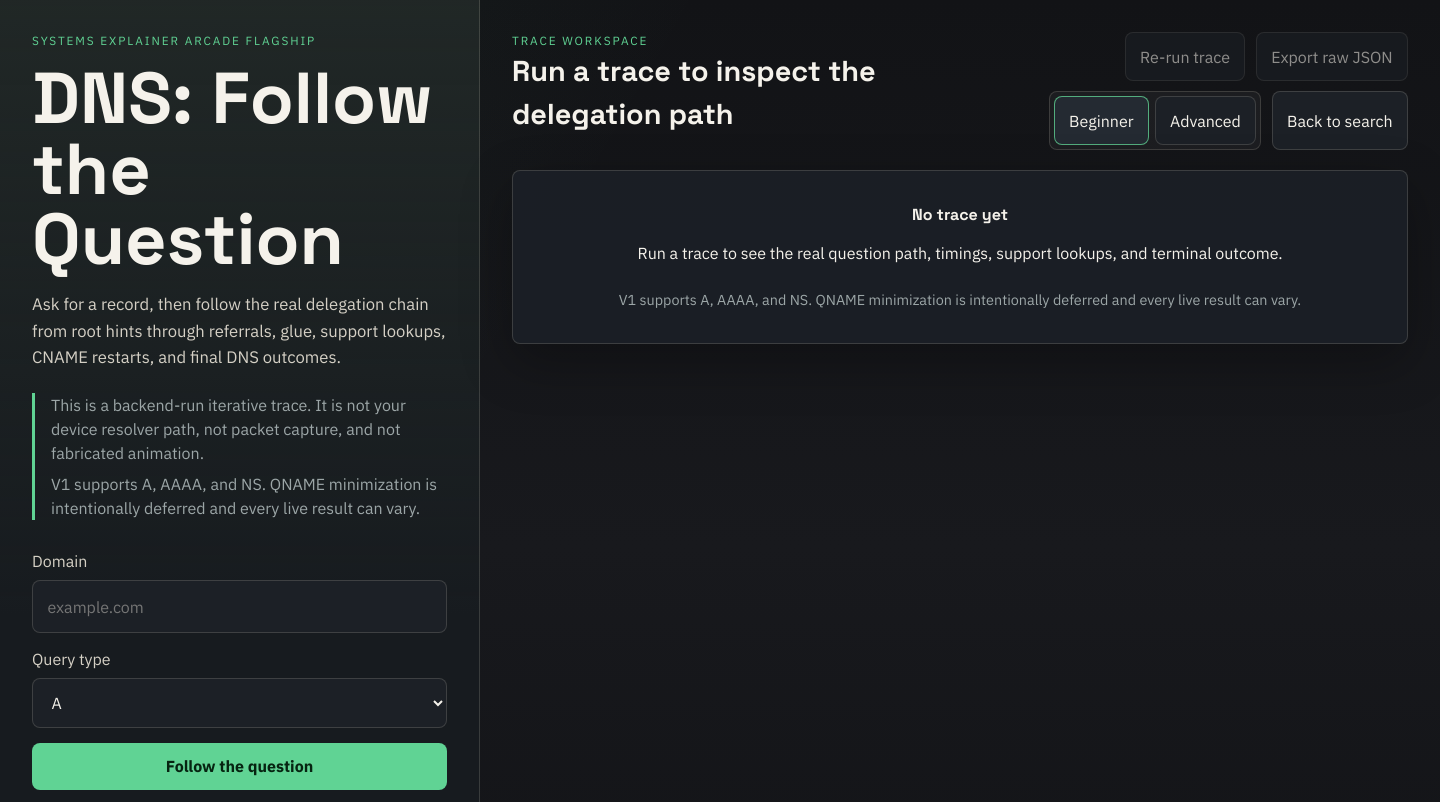
it: App › renders a structured invalid-domain failure before any trace result exists
Type "bad_domain.example.com" into the field labelled "Domain" at (240, 606), box [32, 580, 447, 633]
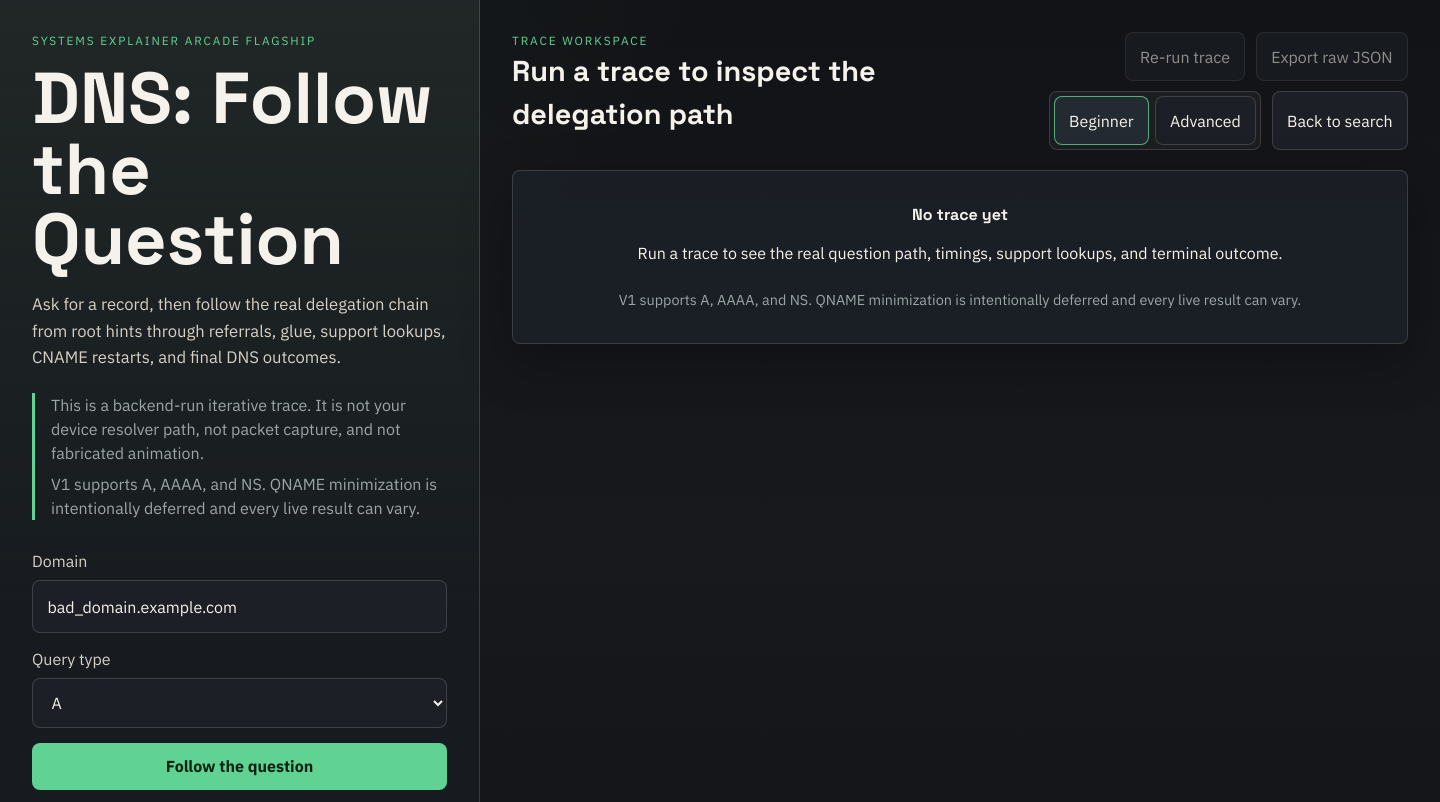
Click the button "Follow the question" at (240, 766), box [32, 743, 447, 790]
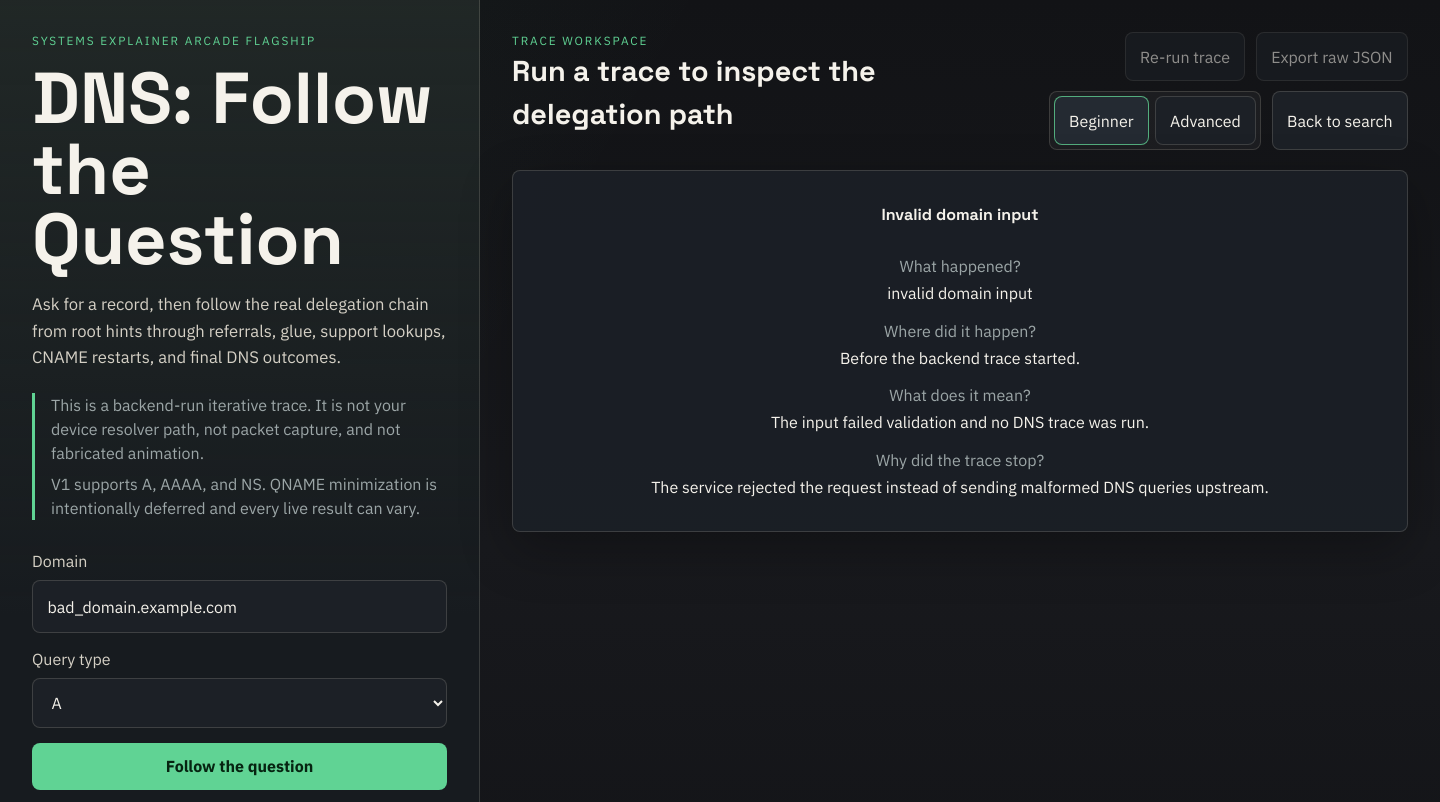
Now the heading "Invalid domain input" is shown, box [882, 204, 1038, 228]
Now the text "The input failed validation and no DNS trace was run." is shown, box [771, 412, 1149, 432]
